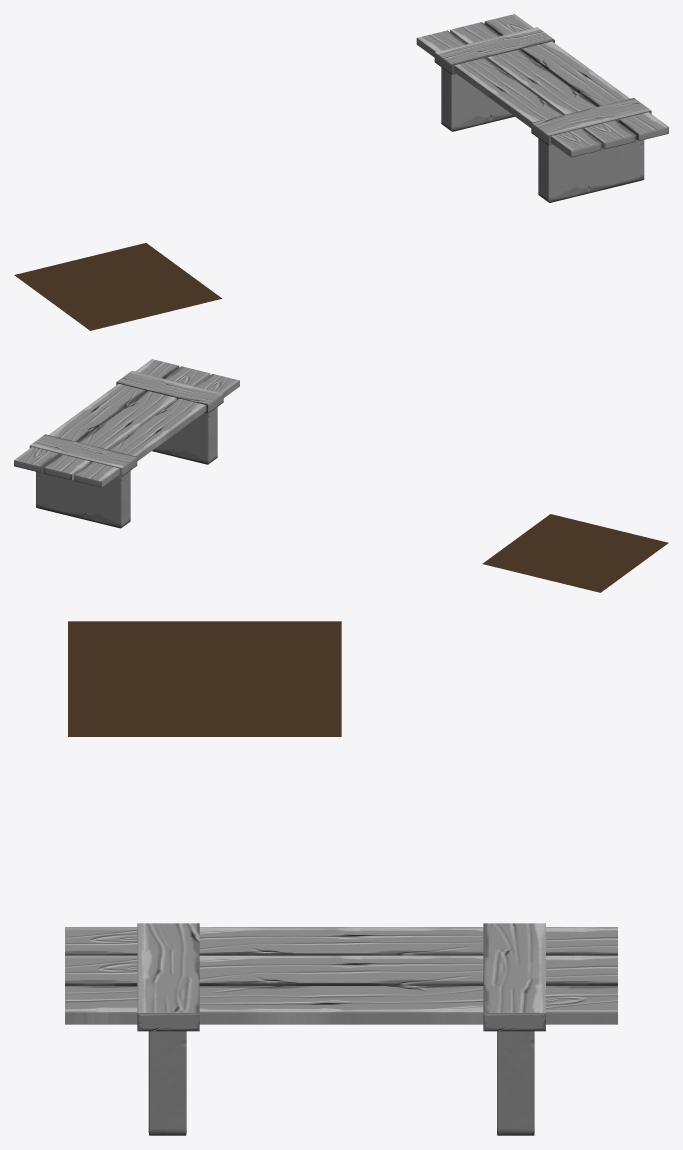
Rendered from WoodBench3.fbx.
3 renders of one model, top to bottom at view 1: azimuth 30°, elevation 25°; view 2: azimuth 150°, elevation 25°; view 3: azimuth 270°, elevation 25°, orthographic. The views are drawn at different scales.
Parts seen in each view (by area): view 1: Plane, Cube.003, Cube.002, Cube, Cube.001, Cube.004, Cube.006, Cube.005; view 2: Plane, Cube.004, Cube.002, Cube, Cube.001, Cube.003, Cube.006, Cube.005; view 3: Plane, Cube.001, Cube, Cube.002, Cube.005, Cube.006, Cube.003, Cube.004.
Boxes of the visible parts, box(x1,y1,x2,y2) form: Plane: box(14, 243, 221, 330); Cube.003: box(538, 138, 644, 202); Cube.002: box(416, 30, 601, 157); Cube: box(450, 22, 636, 149); Cube.001: box(484, 14, 668, 140); Cube.004: box(441, 67, 514, 131); Cube.006: box(434, 27, 554, 74); Cube.005: box(531, 98, 651, 145); Plane: box(482, 514, 668, 592); Cube.004: box(36, 471, 130, 528); Cube.002: box(74, 374, 239, 487); Cube: box(43, 366, 210, 480); Cube.001: box(14, 359, 179, 472); Cube.003: box(152, 407, 217, 464); Cube.006: box(29, 434, 137, 476); Cube.005: box(116, 371, 223, 413); Plane: box(68, 621, 341, 736); Cube.001: box(65, 986, 617, 1024); Cube: box(65, 955, 617, 985); Cube.002: box(65, 927, 617, 955); Cube.005: box(137, 923, 199, 1031); Cube.006: box(483, 923, 545, 1031); Cube.003: box(148, 1031, 186, 1135); Cube.004: box(497, 1031, 534, 1135).
Bounding box in the file's own units: 439 × 51.31 × 202.
